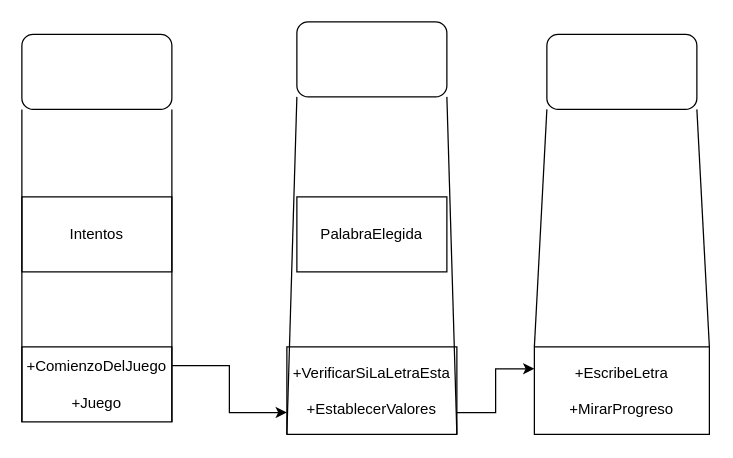
Some shapes in this 733 by 458 pixel diagram are drawn without their labels. Here are the shapes that lost their labels. From the top down, the box of each, then its label:
(21, 33, 172, 109): JuegoAhorcado
(296, 21, 447, 97): PalabraAveriguar
(546, 33, 697, 109): Jugador
